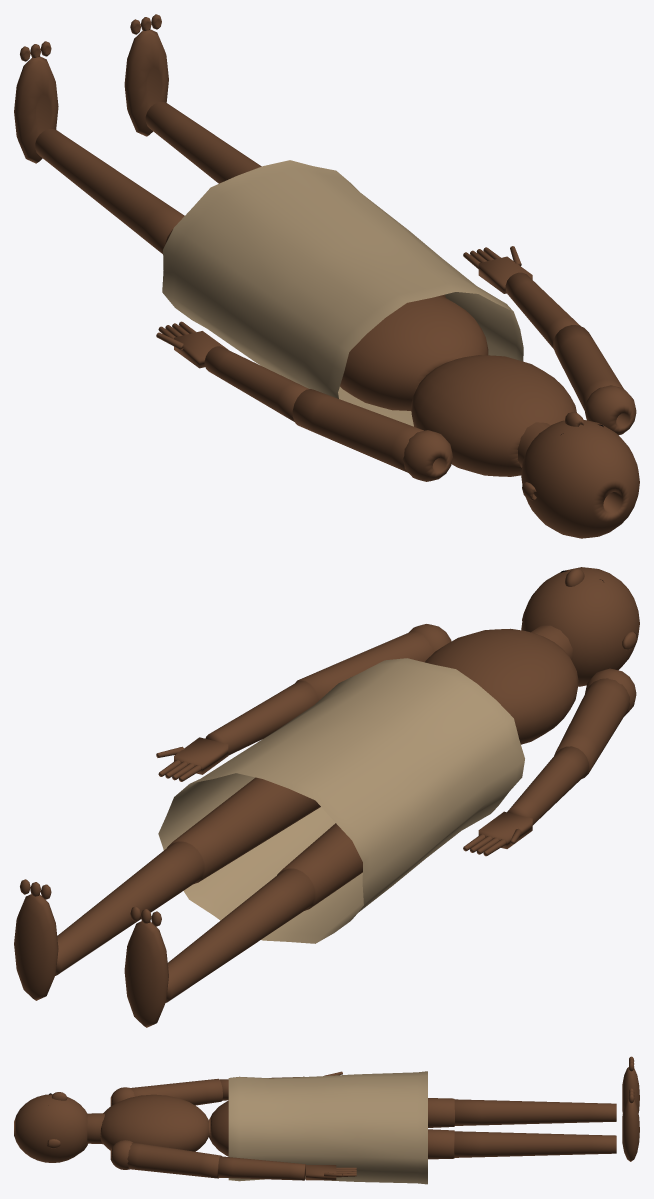
File: NPC_CIVILIAN_YOUTH_M.obj
3 renders of one model, top to bottom at view 1: azimuth 30°, elevation 25°; view 2: azimuth 150°, elevation 25°; view 3: azimuth 270°, elevation 25°, orthographic. The views are drawn at different scales.
Parts seen in each view (by area): view 1: waist_wrapper, torso, head, pelvis, shin_foot.L, shin_foot.R, upperarm.L, upperarm.R, forearm_hand.L, forearm_hand.R; view 2: waist_wrapper, shin_foot.L, shin_foot.R, torso, head, thigh.R, forearm_hand.R, forearm_hand.L, upperarm.L, upperarm.R, thigh.L; view 3: waist_wrapper, torso, shin_foot.R, head, shin_foot.L, upperarm.R, forearm_hand.R, upperarm.L, pelvis, thigh.R, thigh.L, forearm_hand.L.
Part boxes in pixels (box(x1,y1,x2,y2)): waist_wrapper: box(162, 160, 523, 426); torso: box(411, 355, 576, 476); head: box(517, 419, 639, 538); pelvis: box(340, 296, 488, 410); shin_foot.L: box(14, 41, 184, 253); shin_foot.R: box(124, 14, 261, 183); upperarm.L: box(292, 389, 452, 481); upperarm.R: box(553, 325, 636, 435); forearm_hand.L: box(156, 321, 308, 421); forearm_hand.R: box(463, 246, 580, 348); waist_wrapper: box(158, 658, 524, 943); shin_foot.L: box(124, 868, 314, 1027); shin_foot.R: box(14, 841, 204, 1000); torso: box(425, 628, 578, 744); head: box(521, 567, 639, 686); thigh.R: box(167, 777, 320, 884); forearm_hand.R: box(156, 681, 318, 781); forearm_hand.L: box(463, 746, 588, 856); upperarm.L: box(554, 668, 636, 778); upperarm.R: box(295, 624, 451, 700); thigh.L: box(277, 823, 362, 910); waist_wrapper: box(228, 1071, 427, 1184); torso: box(100, 1094, 208, 1151); shin_foot.R: box(454, 1088, 639, 1161); head: box(14, 1094, 104, 1162); shin_foot.L: box(454, 1056, 639, 1125); upperarm.R: box(110, 1140, 221, 1178); forearm_hand.R: box(218, 1156, 356, 1180); upperarm.L: box(110, 1078, 222, 1106); pelvis: box(209, 1100, 228, 1156); thigh.R: box(428, 1129, 454, 1159); thigh.L: box(428, 1098, 454, 1127); forearm_hand.L: box(219, 1071, 342, 1100).
Bounding box in the file's own units: 0.6888 × 0.3139 × 1.76.
